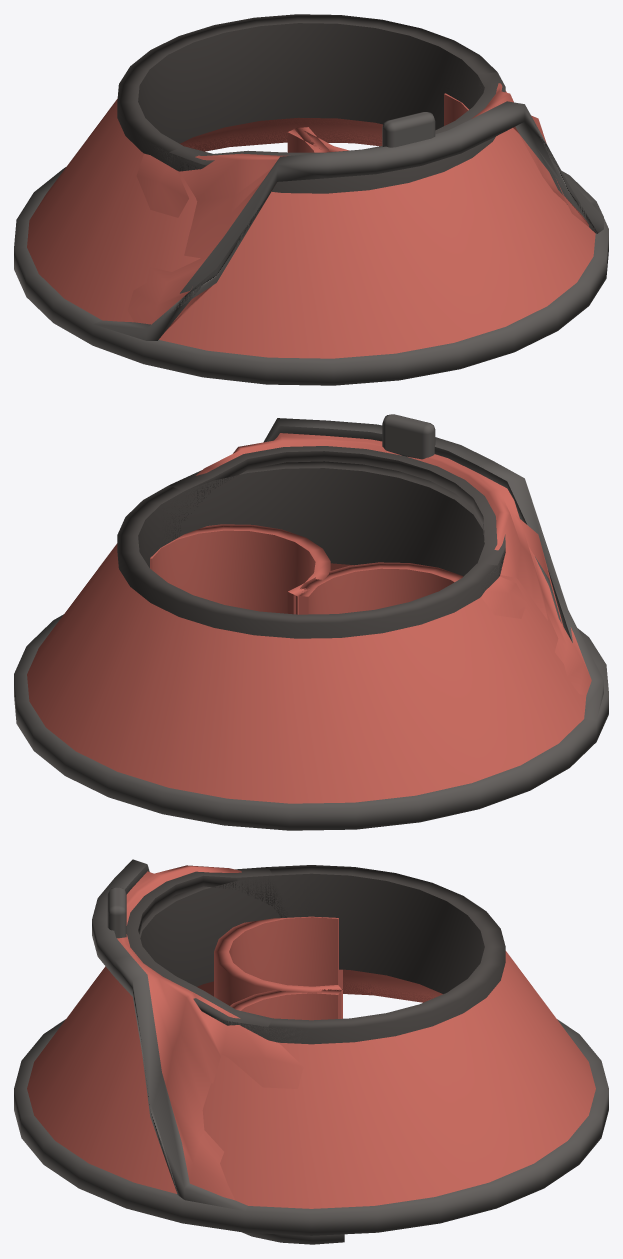
Rendered from boa_skirt.glb.
The picture shows the model from 3 angles, top to bottom: view 1: azimuth 30°, elevation 25°; view 2: azimuth 150°, elevation 25°; view 3: azimuth 270°, elevation 25°; orthographic projection.
Parts seen in each view (by area): view 1: boa_skirt_Body, boa_skirt_Body_sit, boa_skirt_LegR_sit, boa_skirt_LegL_sit; view 2: boa_skirt_Body, boa_skirt_Body_sit, boa_skirt_LegR_sit, boa_skirt_LegL_sit; view 3: boa_skirt_Body, boa_skirt_Body_sit, boa_skirt_LegL_sit, boa_skirt_LegR_sit.
Boxes of the visible parts, left/top/right/bottom form: boa_skirt_Body: left=14, top=14, right=608, bottom=385; boa_skirt_Body_sit: left=93, top=50, right=603, bottom=340; boa_skirt_LegR_sit: left=293, top=93, right=468, bottom=152; boa_skirt_LegL_sit: left=287, top=127, right=328, bottom=152; boa_skirt_Body: left=14, top=461, right=608, bottom=830; boa_skirt_Body_sit: left=145, top=414, right=603, bottom=720; boa_skirt_LegR_sit: left=150, top=524, right=330, bottom=614; boa_skirt_LegL_sit: left=293, top=562, right=463, bottom=614; boa_skirt_Body: left=14, top=865, right=608, bottom=1235; boa_skirt_Body_sit: left=92, top=859, right=442, bottom=1210; boa_skirt_LegL_sit: left=214, top=916, right=342, bottom=1018; boa_skirt_LegR_sit: left=230, top=989, right=344, bottom=1244.
Bounding box in the file's own units: 0.628 × 0.3109 × 0.628.
